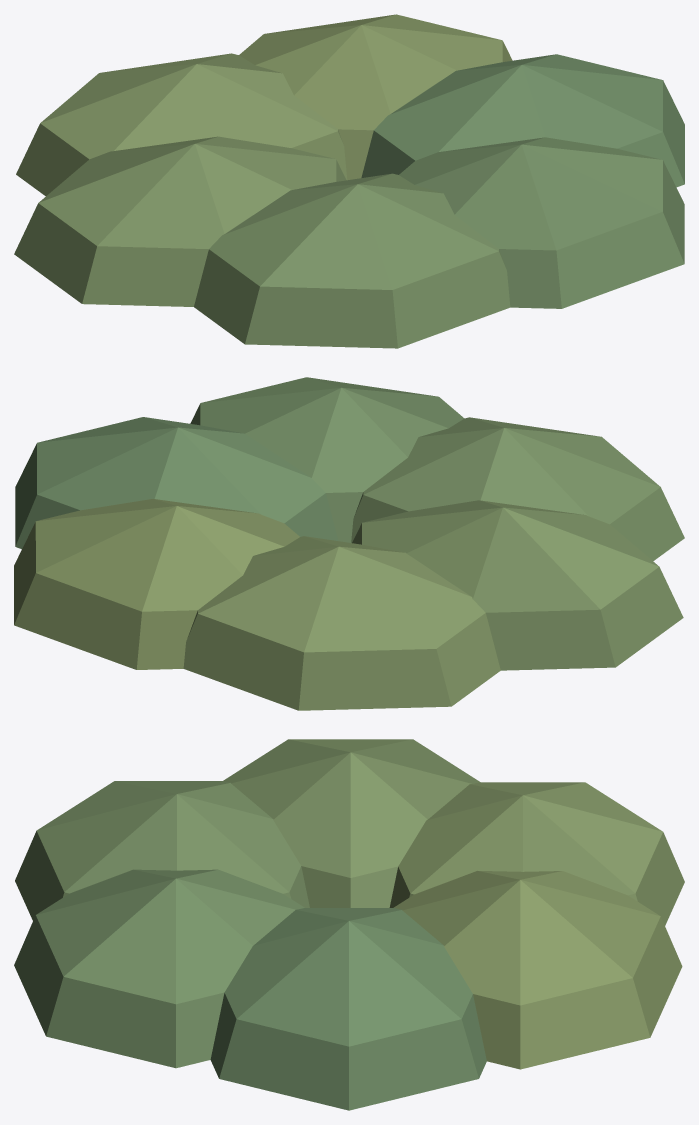
Rendered from moss_grave.glb.
3 views of the same model, one above another, from view 1: azimuth 30°, elevation 25°; view 2: azimuth 150°, elevation 25°; view 3: azimuth 270°, elevation 25° (orthographic). The views are drawn at different scales.
Parts seen in each view (by area): view 1: ../props/moss_grave; view 2: ../props/moss_grave; view 3: ../props/moss_grave.
Part boxes in pixels (bbox=[...]): ../props/moss_grave: bbox=[14, 14, 684, 348]; ../props/moss_grave: bbox=[14, 377, 684, 710]; ../props/moss_grave: bbox=[14, 739, 684, 1110].
Size of the model in its own units: 0.4681 by 0.07 by 0.4037.
